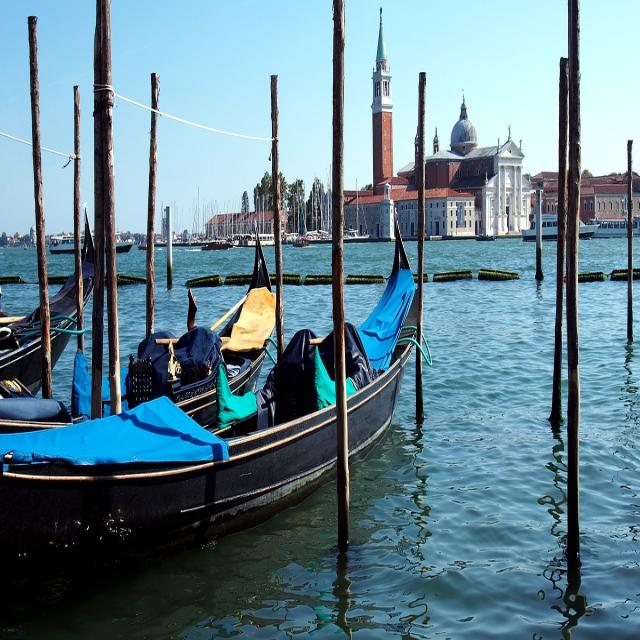boat: (0, 216, 432, 565)
